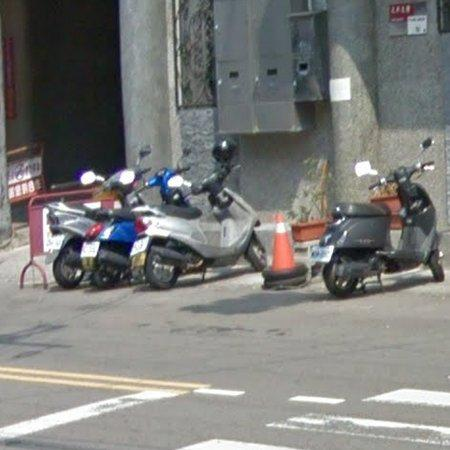motorcycles: (131, 141, 267, 288), (312, 162, 446, 297)
